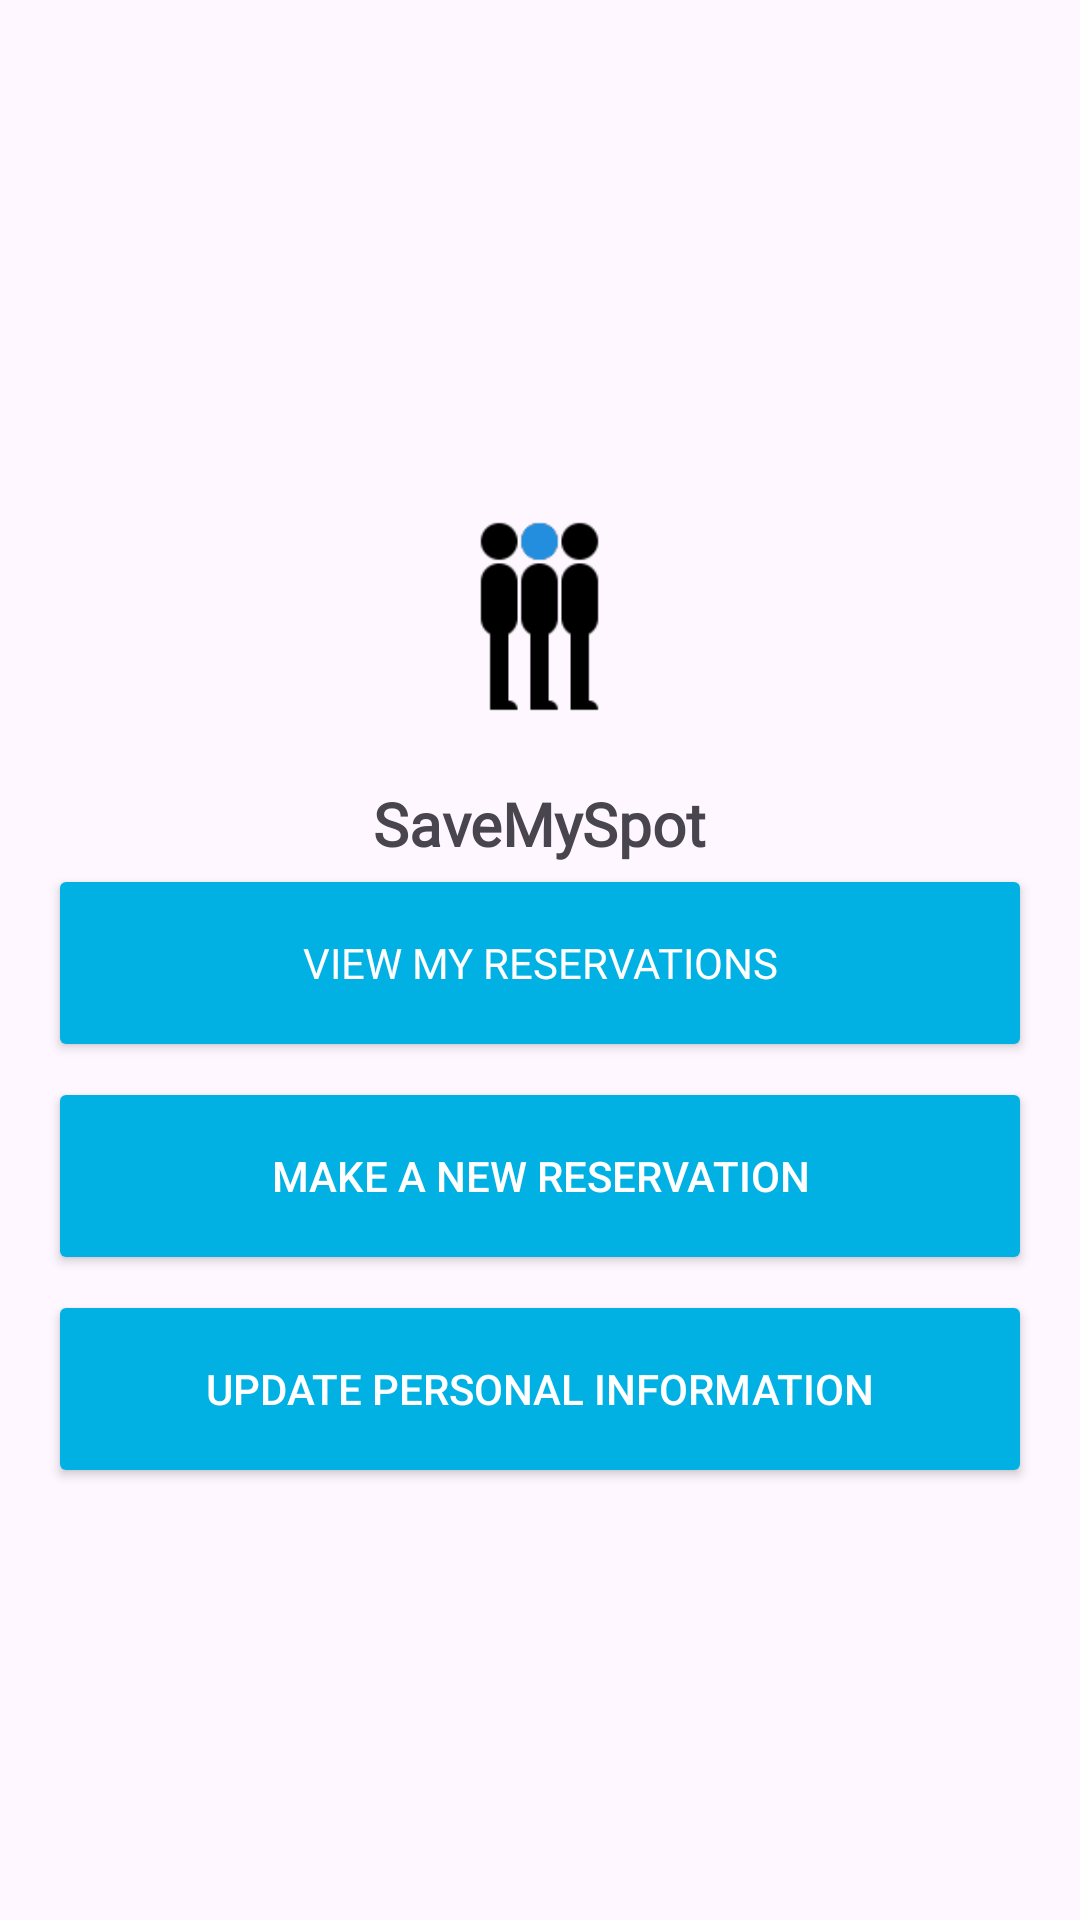

Named icons in this screenshot (1080w x 1920h) and their bounding boxes, (x1, y1, x2, y2):
brand: (480, 522, 599, 711)
